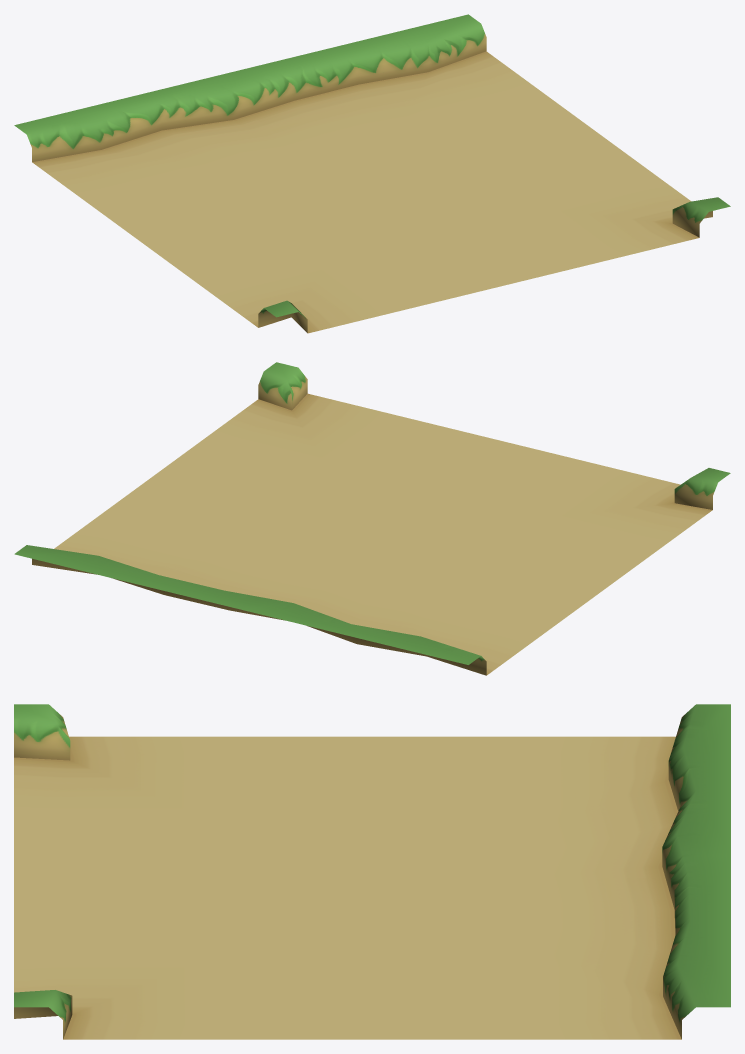
Rendered from Tile07.FBX.
3 views of the same model, one above another, from view 1: azimuth 30°, elevation 25°; view 2: azimuth 150°, elevation 25°; view 3: azimuth 270°, elevation 25° (orthographic). The views are drawn at different scales.
Parts seen in each view (by area): view 1: Tile07; view 2: Tile07; view 3: Tile07.
Boxes of the visible parts, x1,y1,x2,y2 form: Tile07: [14, 14, 730, 333]; Tile07: [14, 362, 730, 675]; Tile07: [14, 704, 730, 1039].
Bounding box in the file's own units: 500 × 25 × 500.
